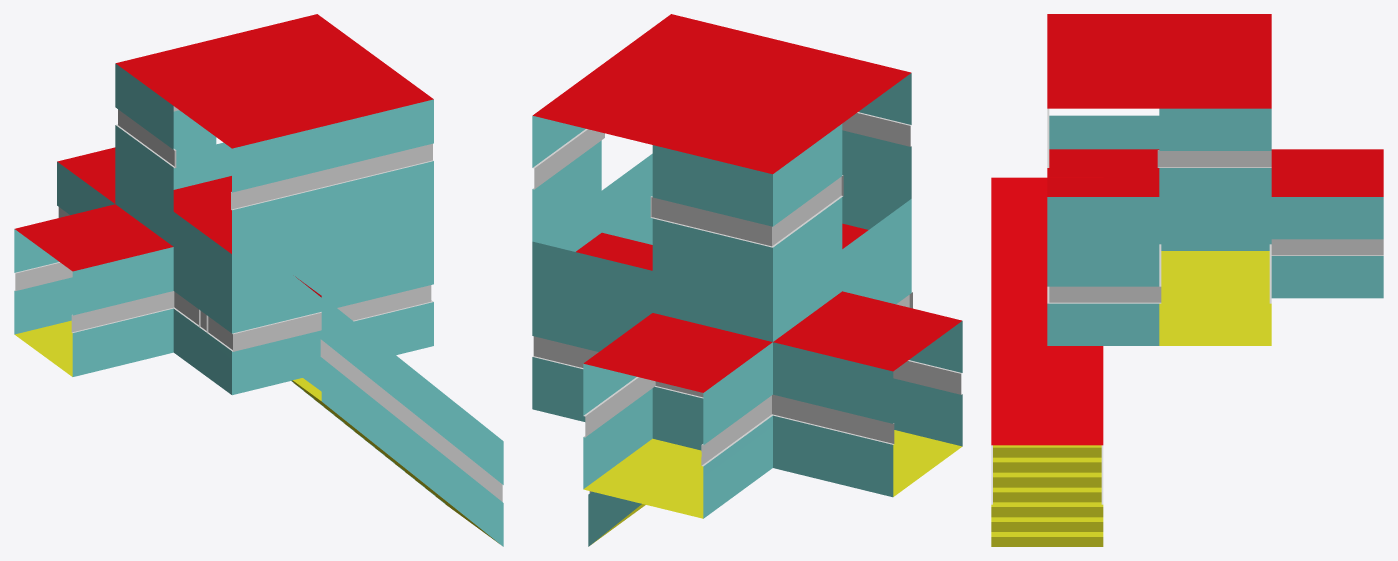
Rendered from ProceduralSettlements.fbx.
The picture shows the model from 3 angles, left to right: view 1: azimuth 30°, elevation 25°; view 2: azimuth 150°, elevation 25°; view 3: azimuth 270°, elevation 25°; orthographic projection. The views are drawn at different scales.
Visible parts, largest first — view 1: triple-exit-stair, Cube, corridor-cross, corridor-t, wall, corridor-1; view 2: triple-exit-stair, corridor-cross, corridor-t, Cube, corridor-l, corridor-1; view 3: triple-exit-stair, Cube, corridor-cross, corridor-t, corridor-1, corridor-l.
Part boxes in pixels (x1,y1,x2,y2): triple-exit-stair: (115, 14, 433, 392); Cube: (291, 276, 503, 546); corridor-cross: (14, 147, 232, 374); corridor-t: (14, 221, 231, 376); wall: (232, 265, 332, 395); corridor-1: (173, 232, 232, 394); triple-exit-stair: (532, 14, 911, 421); corridor-cross: (532, 244, 962, 518); corridor-t: (532, 283, 962, 496); Cube: (588, 491, 645, 546); corridor-l: (532, 232, 702, 404); corridor-1: (842, 223, 911, 291); triple-exit-stair: (1047, 14, 1271, 345); Cube: (991, 177, 1103, 546); corridor-cross: (1159, 149, 1383, 345); corridor-t: (1049, 149, 1271, 345); corridor-1: (1047, 149, 1159, 210); corridor-l: (1159, 244, 1271, 345).
Size of the model in its own units: 1020 by 1238 by 1050.
